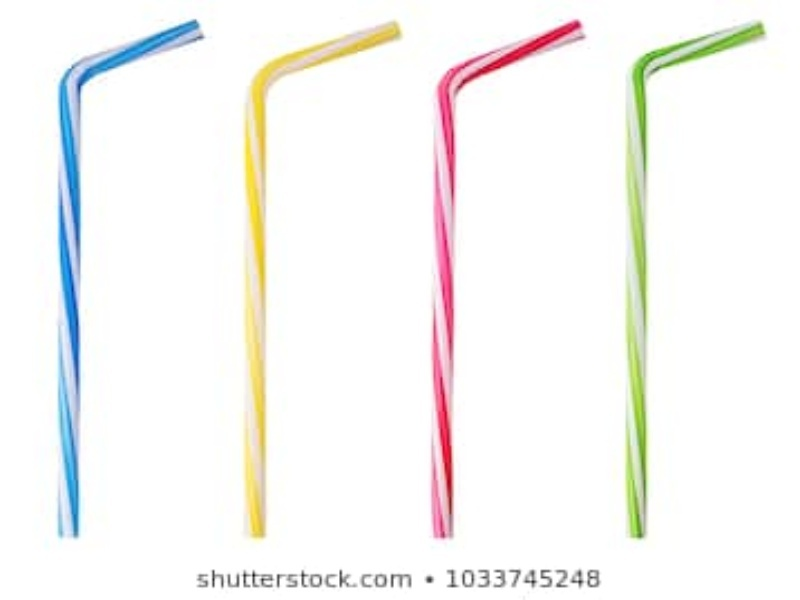straw: (238, 19, 403, 543), (424, 17, 589, 541), (48, 15, 209, 539), (622, 18, 769, 545)
